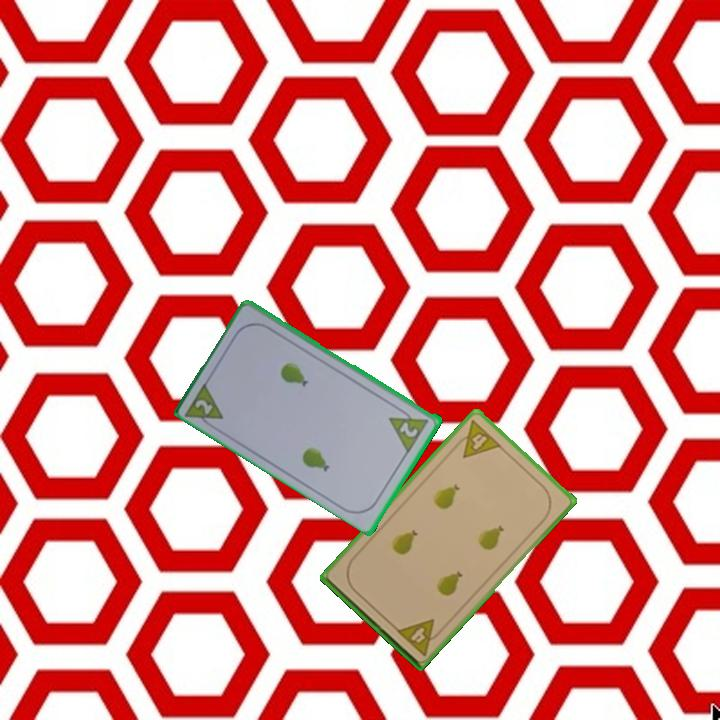2p: (192, 395, 216, 418), (396, 418, 421, 440)
4p: (449, 416, 504, 461), (393, 615, 446, 659)
